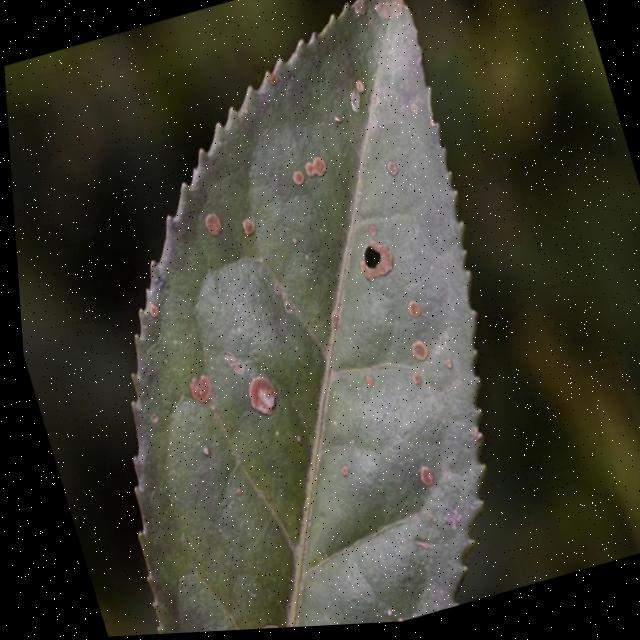Tea algae leaf spot: (83, 34, 527, 613)
